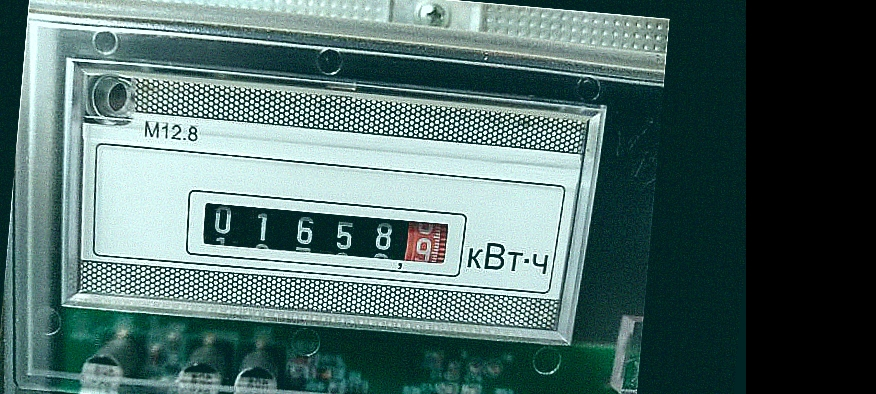0: (210, 202, 234, 236)
1: (254, 210, 269, 242)
5: (333, 218, 355, 251)
6: (293, 213, 316, 246)
8: (372, 219, 394, 252)
9: (411, 234, 432, 262)
screen: (175, 179, 472, 283)
